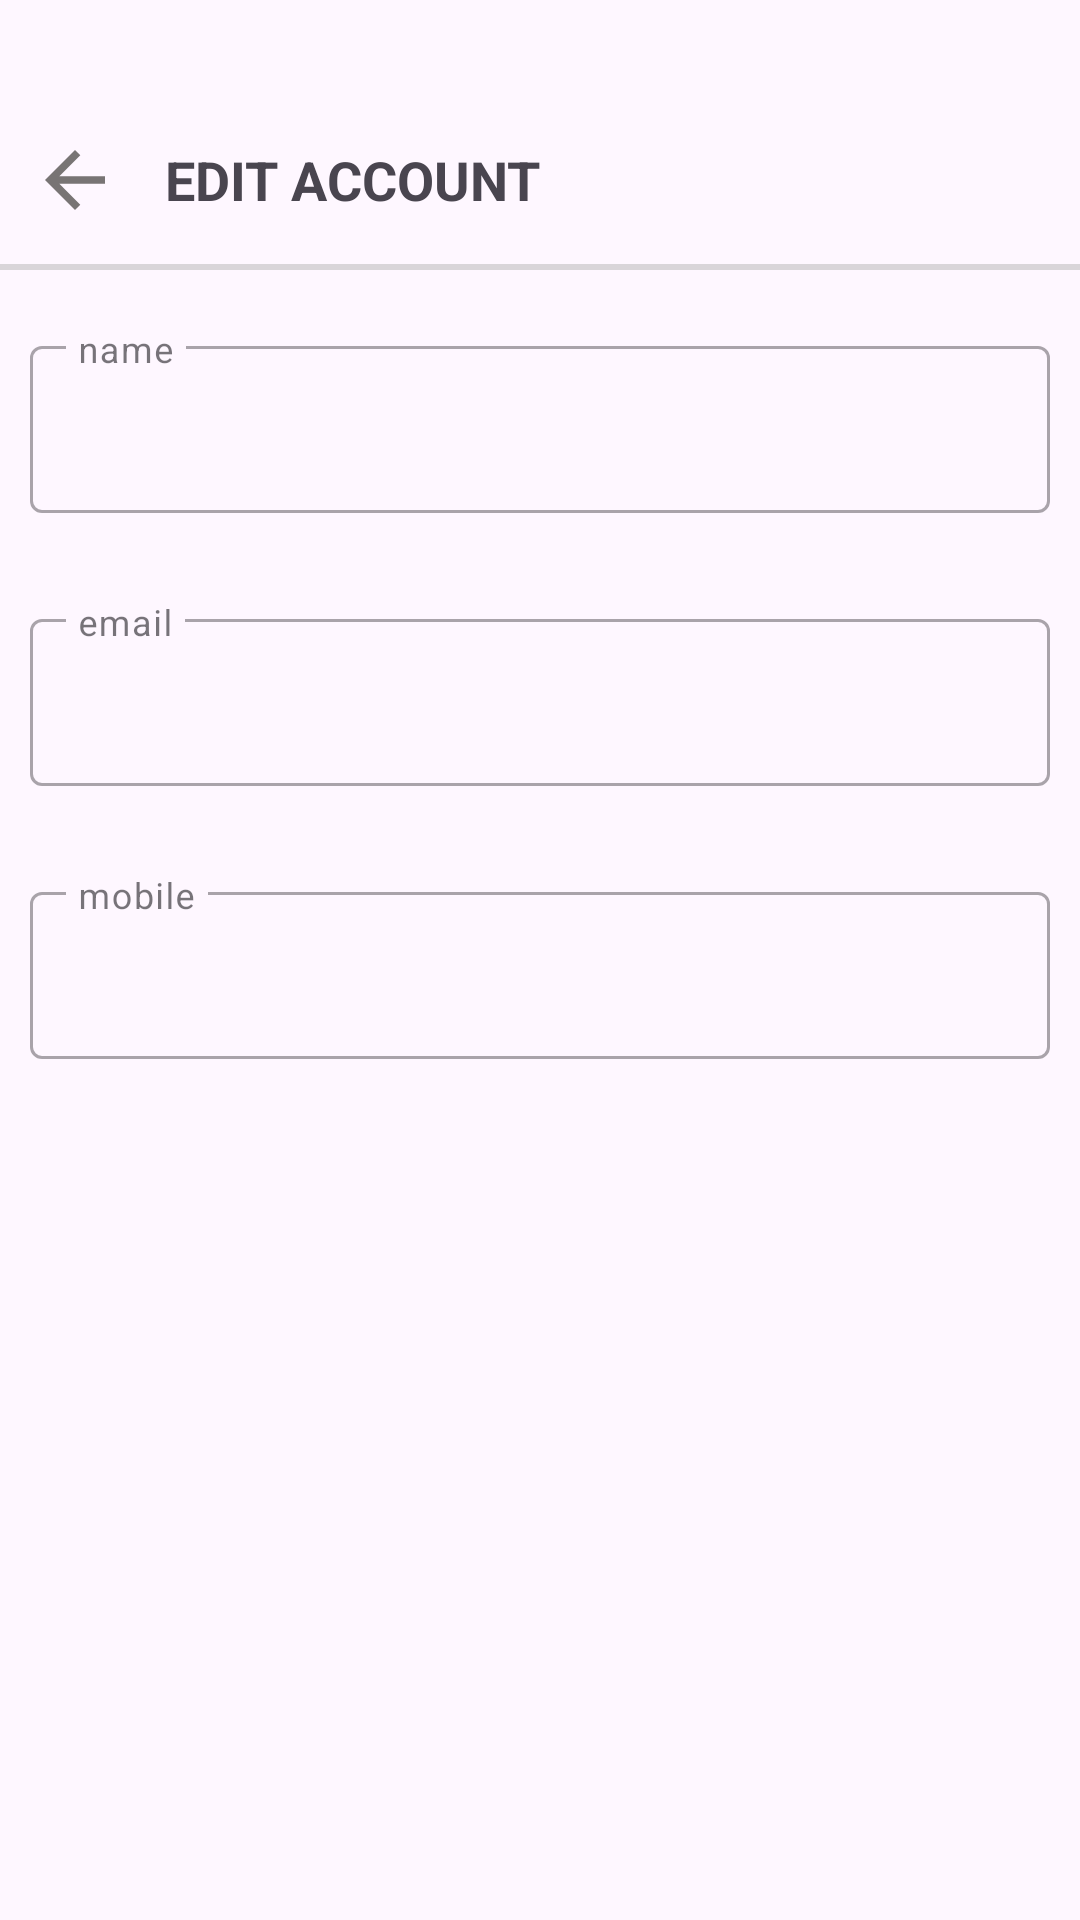

Named icons in this screenshot (1080 x 1920) and their centers, point (x, y):
back arrow: point (75, 180)
